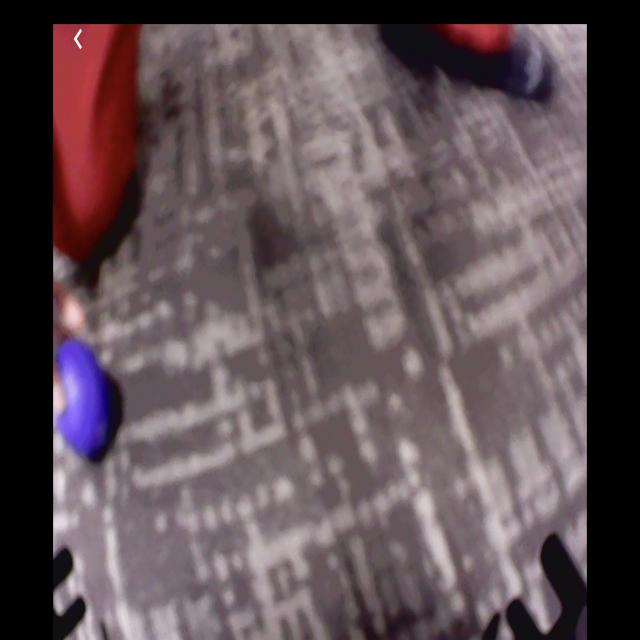ball: (54, 341, 112, 455)
